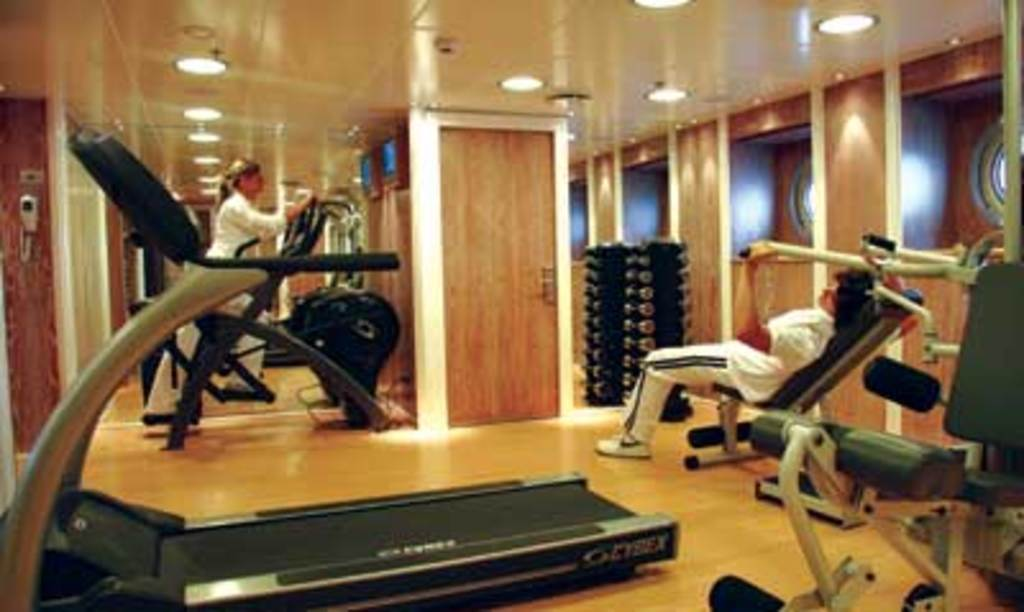Person: (592, 260, 877, 458), (142, 155, 312, 427)
